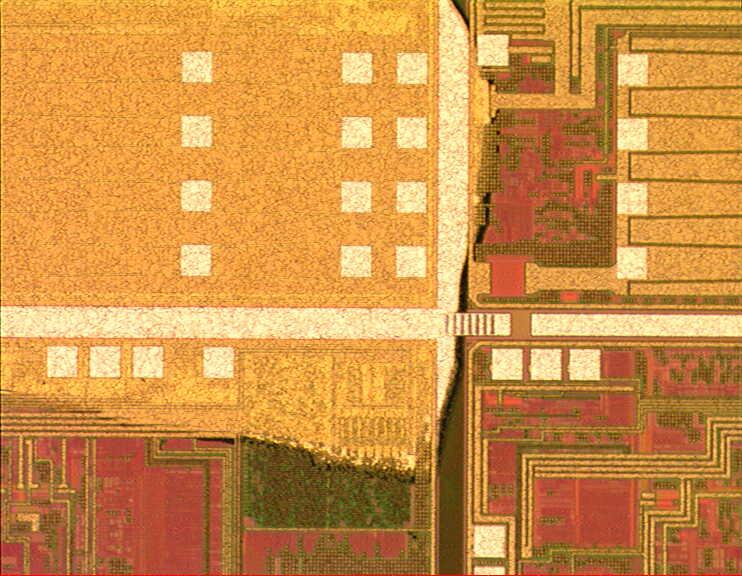BLOCK ETCH: (1, 1, 508, 496)
